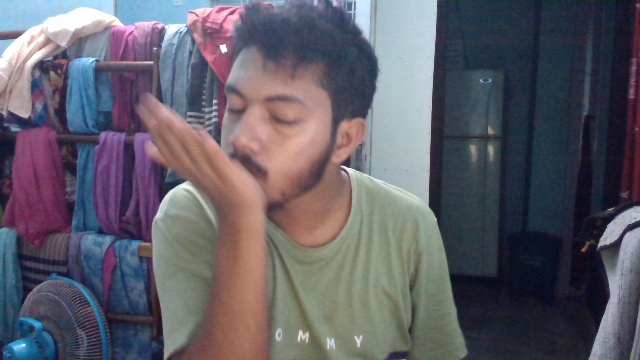iloveu: (130, 4, 405, 204)
